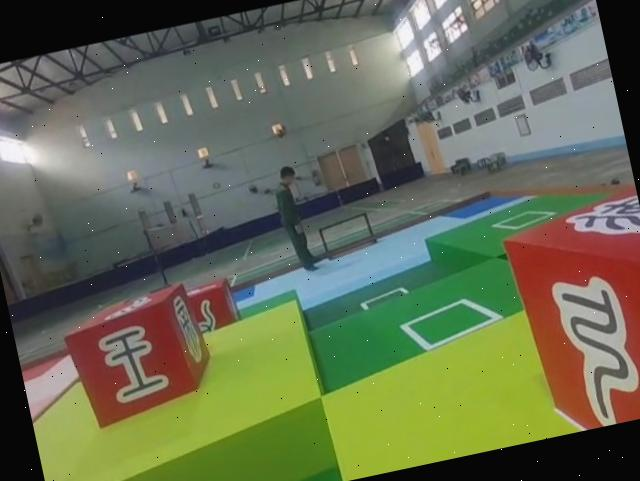R2 Fake: (496, 178, 640, 438), (58, 279, 217, 435)
R2 Real: (178, 273, 243, 338)
